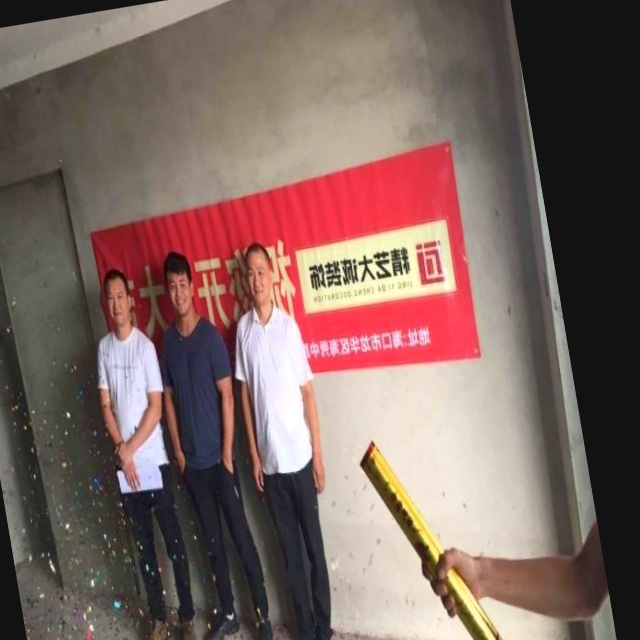Sin_Casco_Mascarrilla: (160, 247, 197, 315), (243, 242, 278, 304), (101, 265, 136, 327)
Sin_Chaleco: (229, 305, 323, 482), (154, 312, 245, 470), (92, 329, 173, 482)
